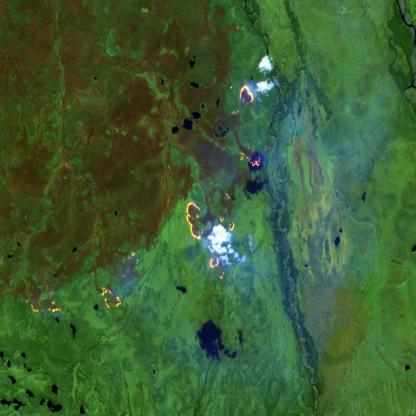fire: (180, 187, 238, 285), (20, 279, 66, 324), (94, 274, 129, 319), (238, 73, 261, 110), (237, 140, 263, 172)
